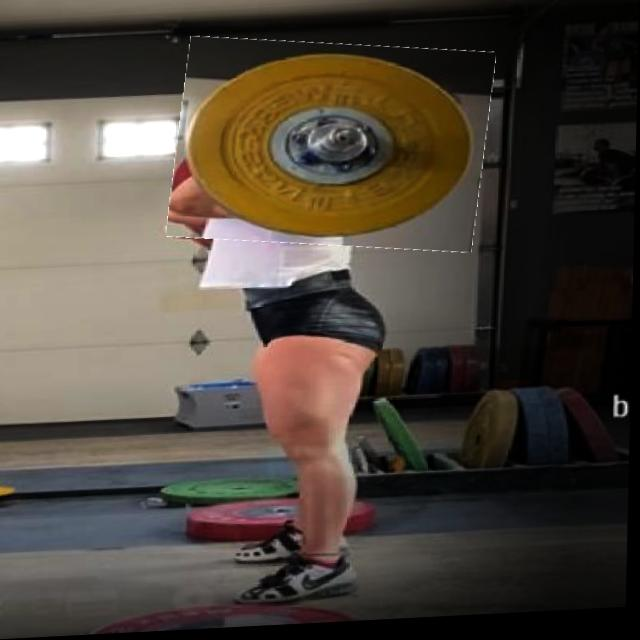barbell: (171, 35, 493, 263)
